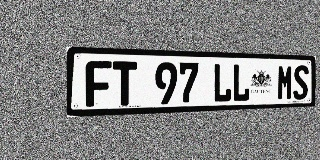7: (178, 63, 199, 104)
9: (155, 62, 177, 105)
F: (86, 61, 112, 107)
L: (213, 63, 232, 103), (232, 64, 250, 102)
M: (277, 65, 293, 100)
S: (293, 65, 309, 100)
T: (112, 61, 137, 106)
